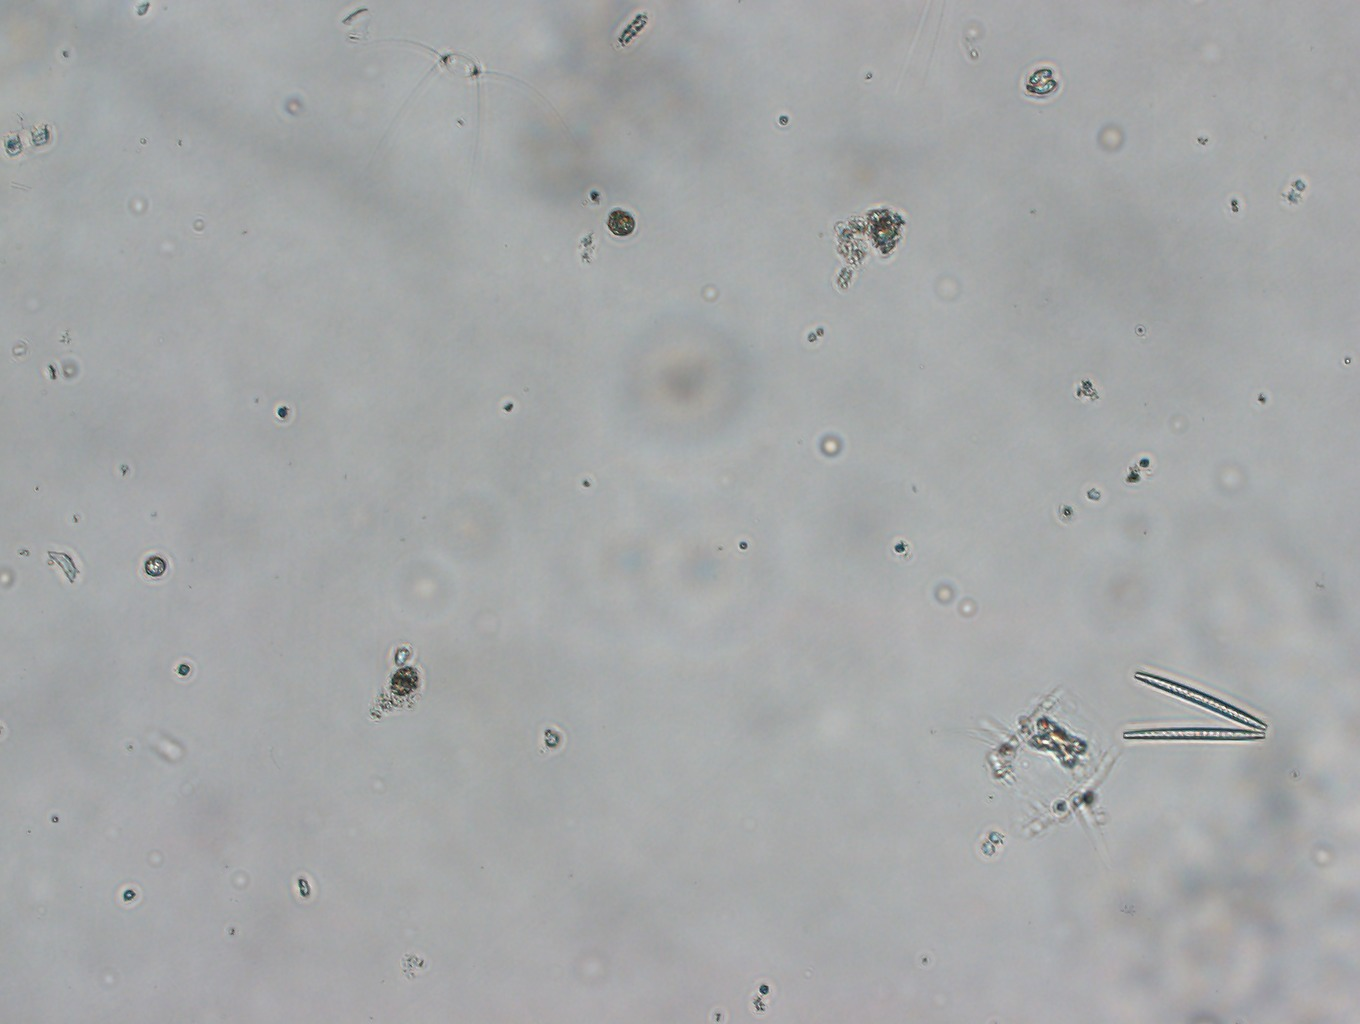thalassionema frauenfeldii: (1108, 665, 1290, 772)
